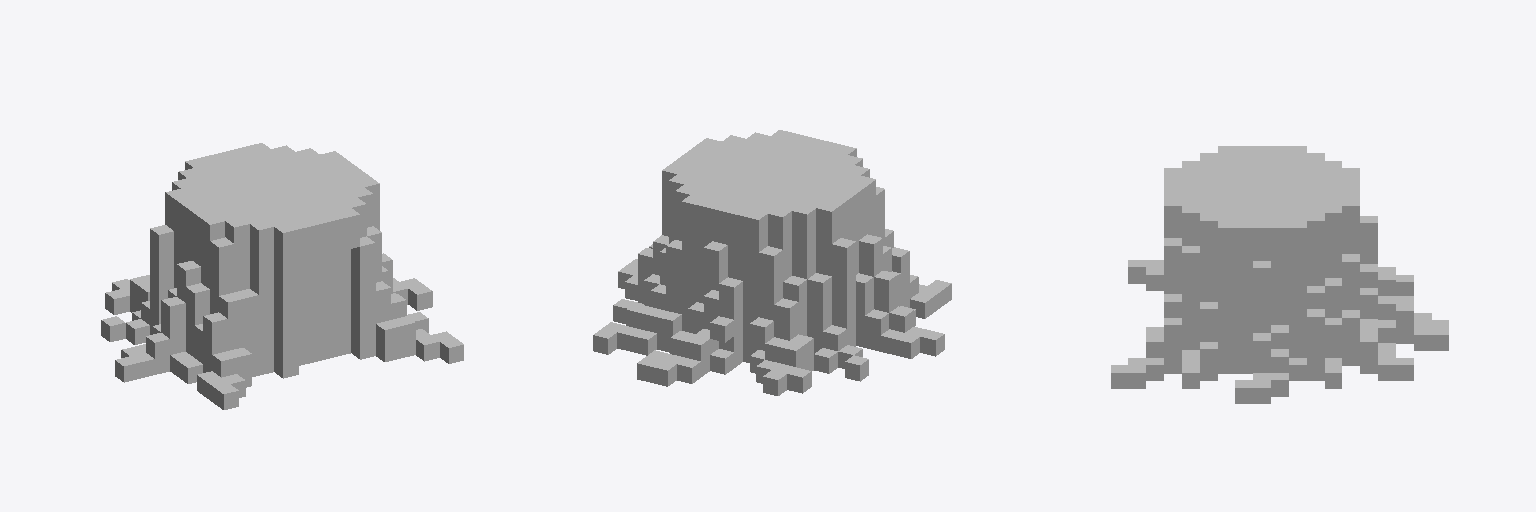
Rendered from stump.obj.
3 renders of one model, left to right at view 1: azimuth 30°, elevation 25°; view 2: azimuth 150°, elevation 25°; view 3: azimuth 270°, elevation 25°, orthographic.
Size of the model in its own units: 20 by 9 by 19.